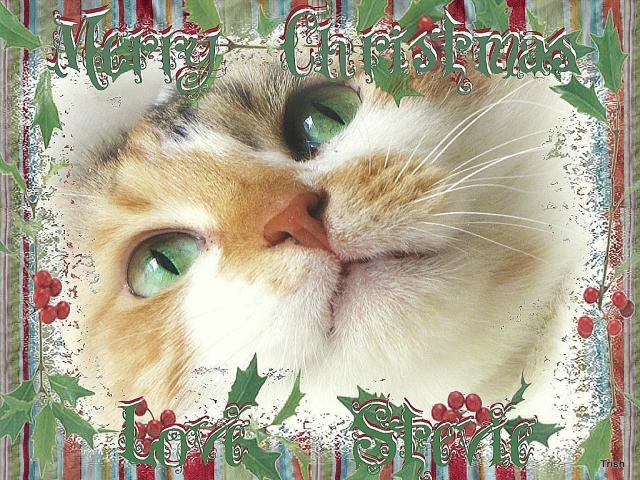Cat: (50, 45, 584, 433)
